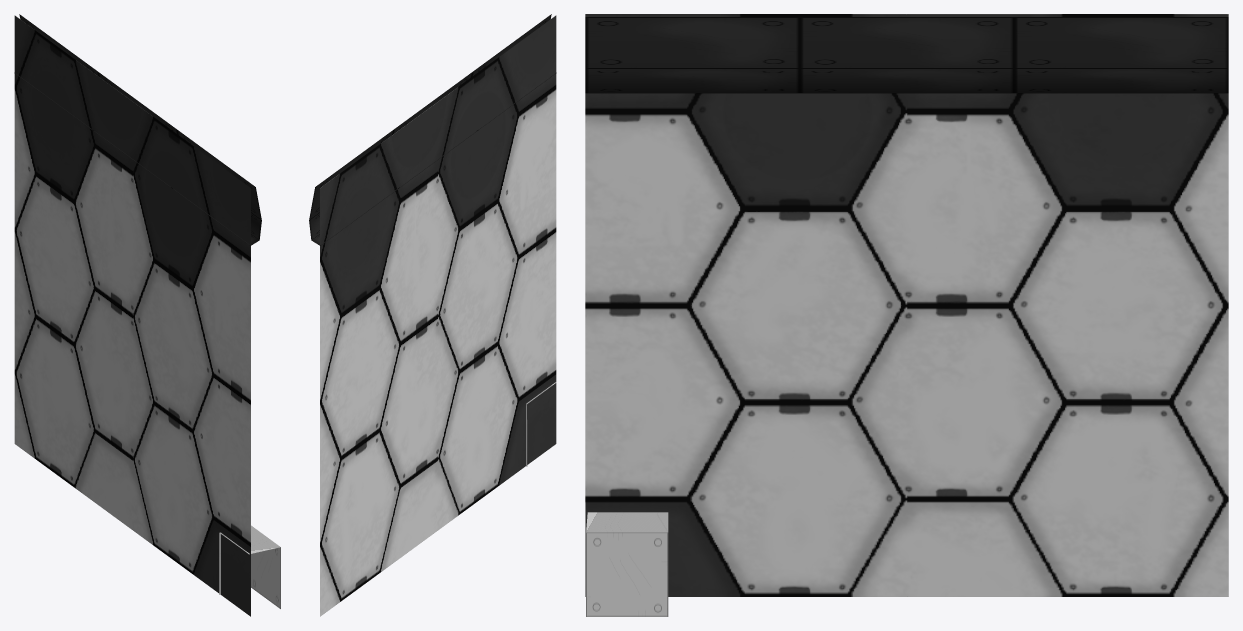
File: Wall_TopBottomLCorner.fbx
The picture shows the model from 3 angles, left to right: view 1: azimuth 30°, elevation 25°; view 2: azimuth 150°, elevation 25°; view 3: azimuth 270°, elevation 25°; orthographic projection. The views are drawn at different scales.
Visible parts, largest first — view 1: pPlane141; view 2: pPlane141; view 3: pPlane141.
Part boxes in pixels (x1=…): pPlane141: x1=14, y1=14, x2=280, y2=616; pPlane141: x1=309, y1=14, x2=556, y2=616; pPlane141: x1=585, y1=14, x2=1228, y2=616.
Size of the model in its own units: 0.1534 by 2 by 2.
